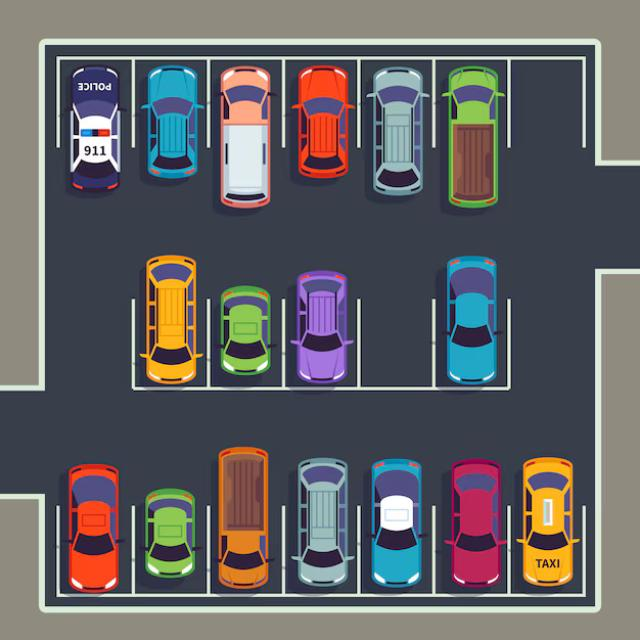libre: (511, 57, 586, 215), (365, 248, 432, 388)
ocupado: (57, 444, 580, 602), (58, 56, 506, 220), (124, 245, 361, 384), (435, 244, 508, 394)
